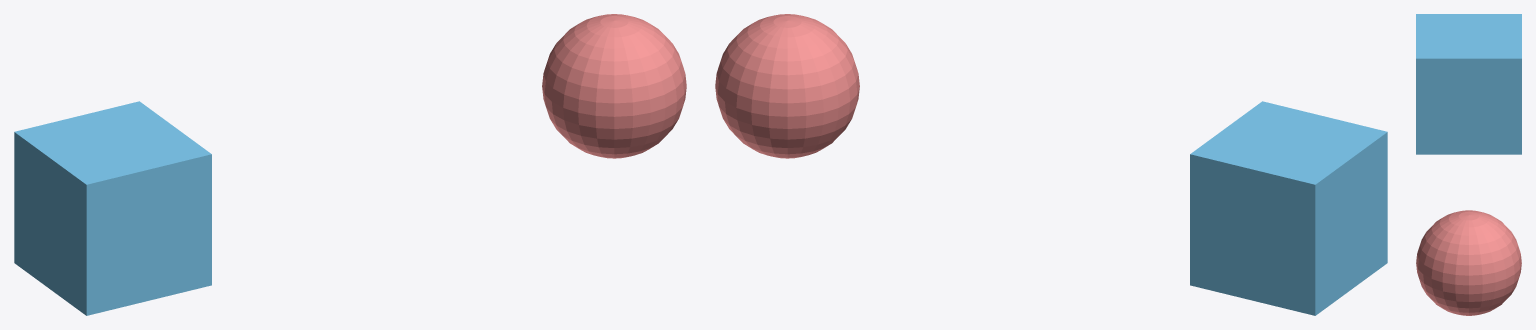
The picture shows the model from 3 angles, left to right: view 1: azimuth 30°, elevation 25°; view 2: azimuth 150°, elevation 25°; view 3: azimuth 270°, elevation 25°; orthographic projection. The views are drawn at different scales.
Visible parts, largest first — view 1: Cube, Sphere; view 2: Cube, Sphere; view 3: Cube, Sphere.
Boxes of the visible parts, <box> form: Cube: <box>14,101,211,315</box>; Sphere: <box>542,14,686,158</box>; Cube: <box>1190,101,1387,315</box>; Sphere: <box>715,14,859,158</box>; Cube: <box>1416,14,1521,154</box>; Sphere: <box>1416,210,1521,315</box>.
Bounding box in the file's own units: 5 × 1 × 1.
